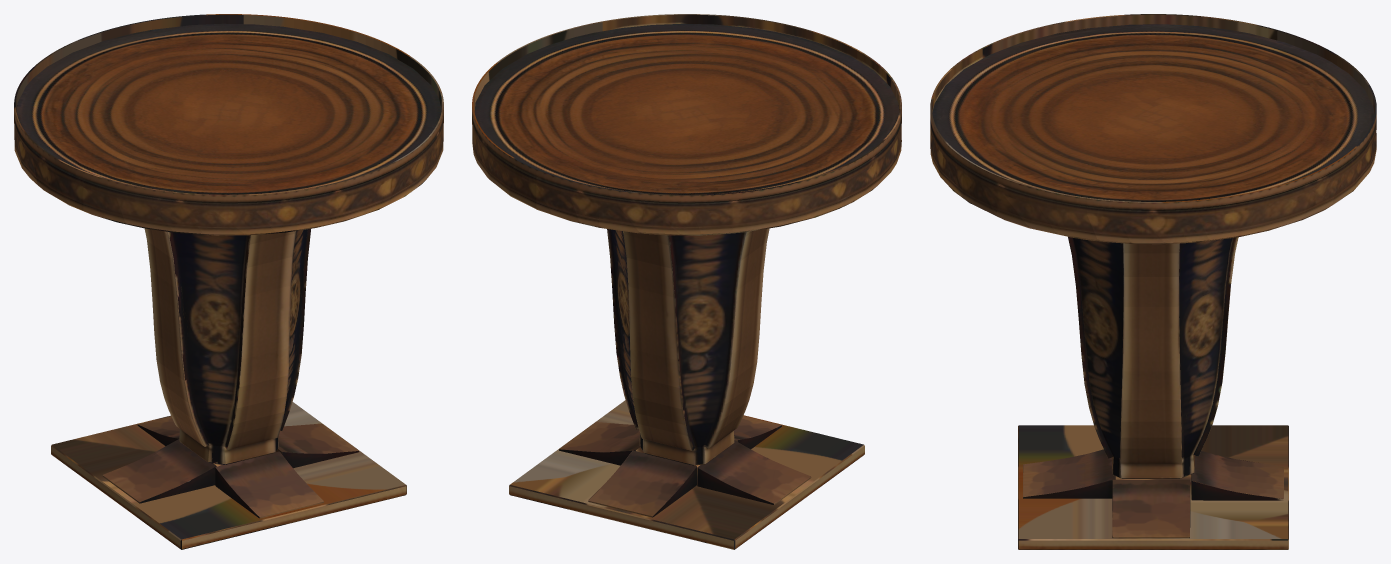
File: edited_mesh.glb
3 views of the same model, side by side, from view 1: azimuth 30°, elevation 25°; view 2: azimuth 150°, elevation 25°; view 3: azimuth 270°, elevation 25° (orthographic). The views are drawn at different scales.
Visible parts, largest first — view 1: solid_001_wire; view 2: solid_001_wire; view 3: solid_001_wire.
Boxes of the visible parts, <box> form: solid_001_wire: <box>14,14,443,549</box>; solid_001_wire: <box>472,14,901,549</box>; solid_001_wire: <box>930,14,1376,549</box>.
Size of the model in its own units: 1.38 by 1.31 by 1.38.
1 material, 1 textured.
